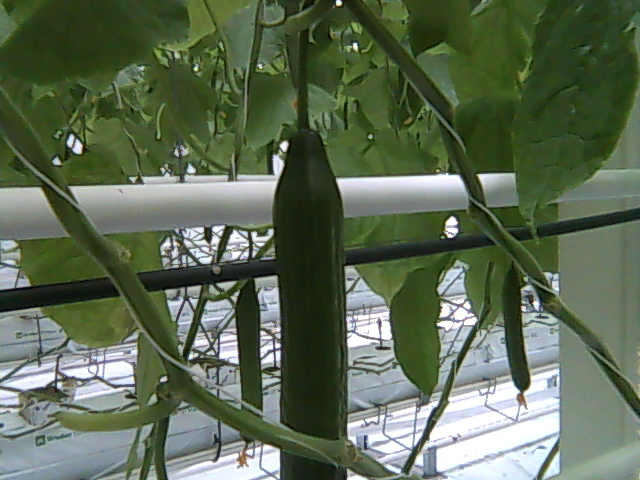concombre: (271, 124, 350, 480)
